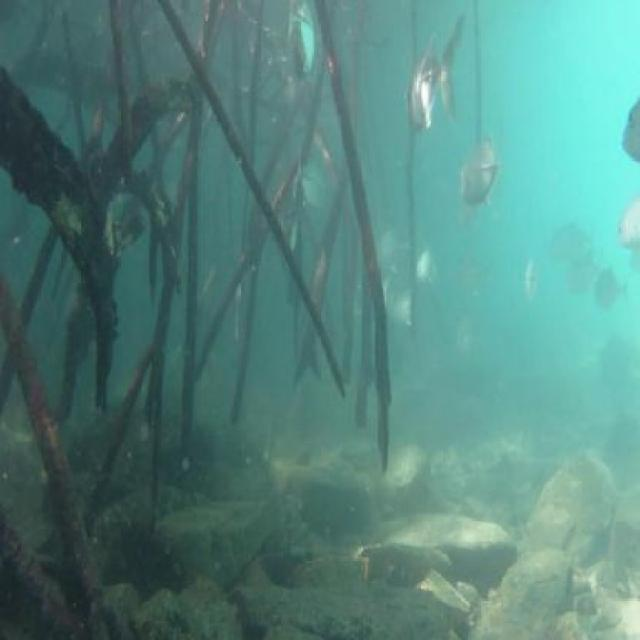Caranx_sexfasciatus_juvenile: (405, 5, 470, 136), (450, 122, 501, 216), (539, 210, 604, 268), (282, 0, 320, 88), (585, 261, 629, 330), (292, 154, 334, 221), (374, 218, 412, 290), (378, 266, 417, 334), (448, 242, 484, 306), (559, 248, 595, 308), (615, 176, 640, 262), (615, 86, 640, 171), (452, 301, 480, 365), (516, 259, 544, 313), (409, 247, 440, 293)
